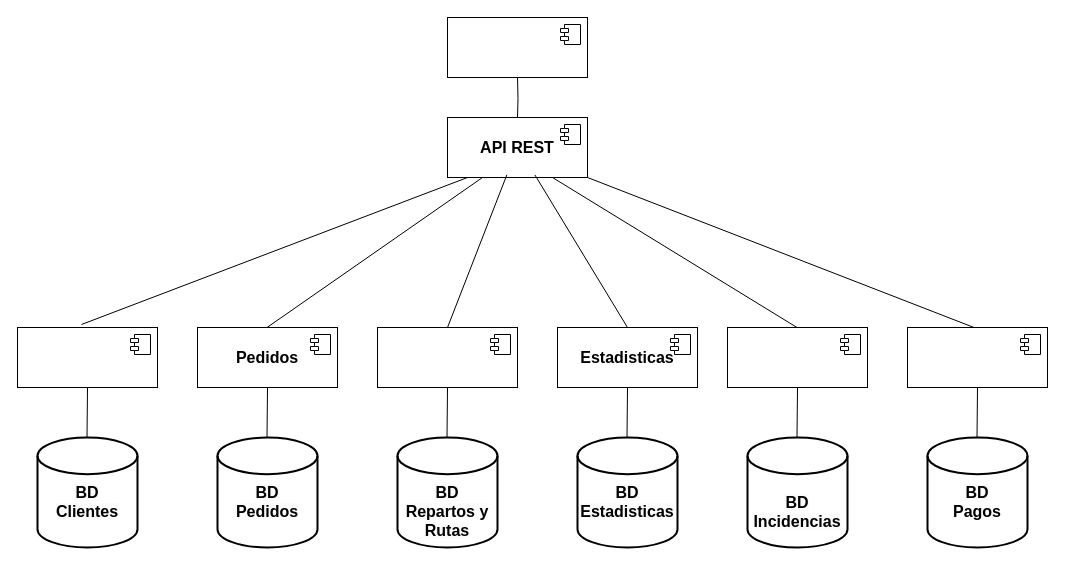
The diagram is 1065 pixels wide and 572 high, and some of its shapes have lost their labels. The centre of each missing label's shape, as x and y in pixels:
"API Gateway" belongs at (x=517, y=47).
"Clientes" belongs at (x=87, y=357).
"Incidencias" belongs at (x=797, y=357).
"Pagos" belongs at (x=977, y=357).
"Repartos y Rutas" belongs at (x=447, y=357).
